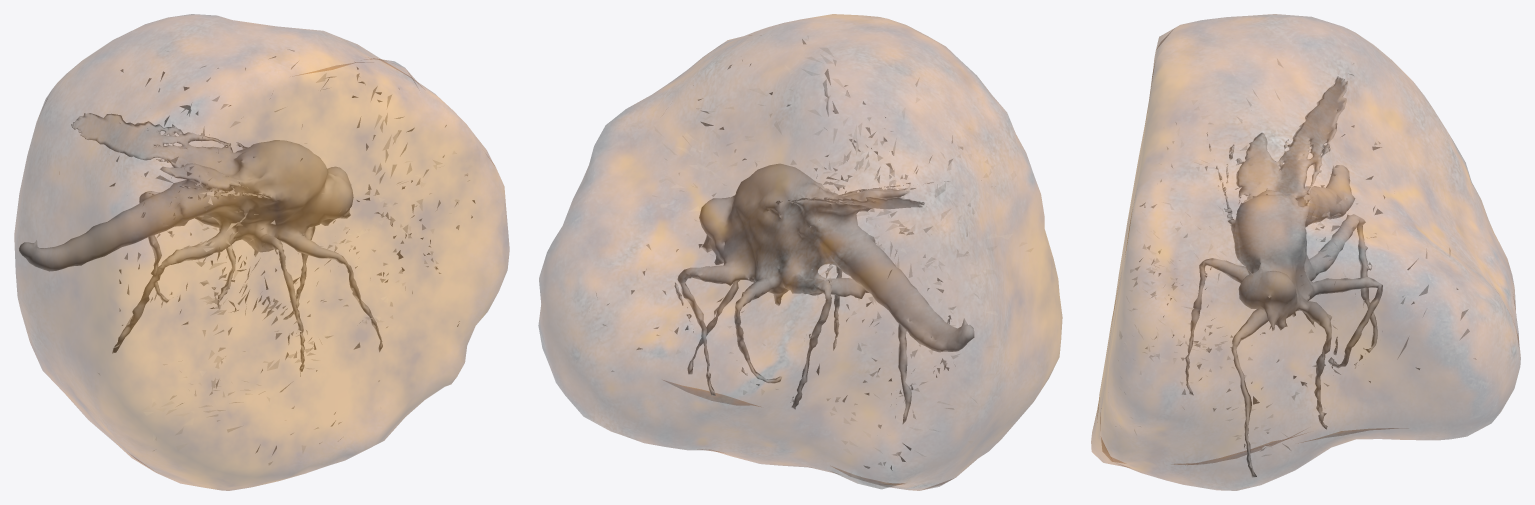
Rendered from MosquitoInAmber.gltf.
3 views of the same model, side by side, from view 1: azimuth 30°, elevation 25°; view 2: azimuth 150°, elevation 25°; view 3: azimuth 270°, elevation 25° (orthographic). The views are drawn at different scales.
Parts seen in each view (by area): view 1: 5_amber_lr, 2_mosquito_lr, 6_eclats; view 2: 5_amber_lr, 2_mosquito_lr, 6_eclats; view 3: 5_amber_lr, 2_mosquito_lr, 6_eclats.
Part boxes in pixels (x1,y1,x2,y2): 5_amber_lr: (14, 14, 509, 490); 2_mosquito_lr: (19, 113, 382, 371); 6_eclats: (98, 49, 475, 465); 5_amber_lr: (538, 14, 1062, 490); 2_mosquito_lr: (674, 163, 974, 423); 6_eclats: (596, 35, 1036, 470); 5_amber_lr: (1091, 14, 1520, 490); 2_mosquito_lr: (1185, 76, 1382, 477); 6_eclats: (1109, 59, 1476, 456).
Bounding box in the file's own units: 0.0972 × 0.0997 × 0.0879.
